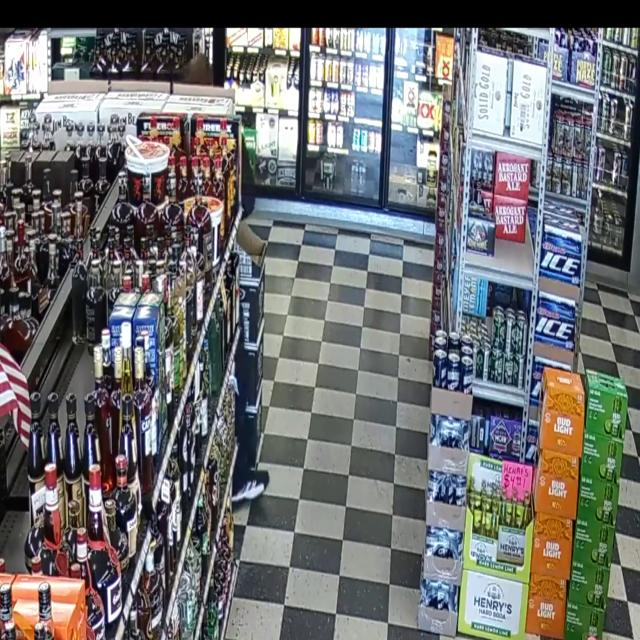normal: (170, 54, 210, 96)
